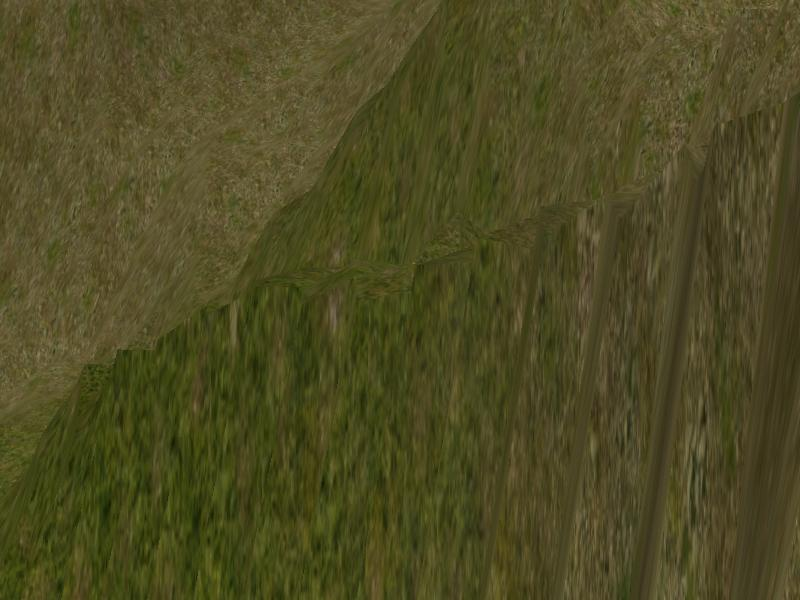background: (2, 3, 800, 599)
